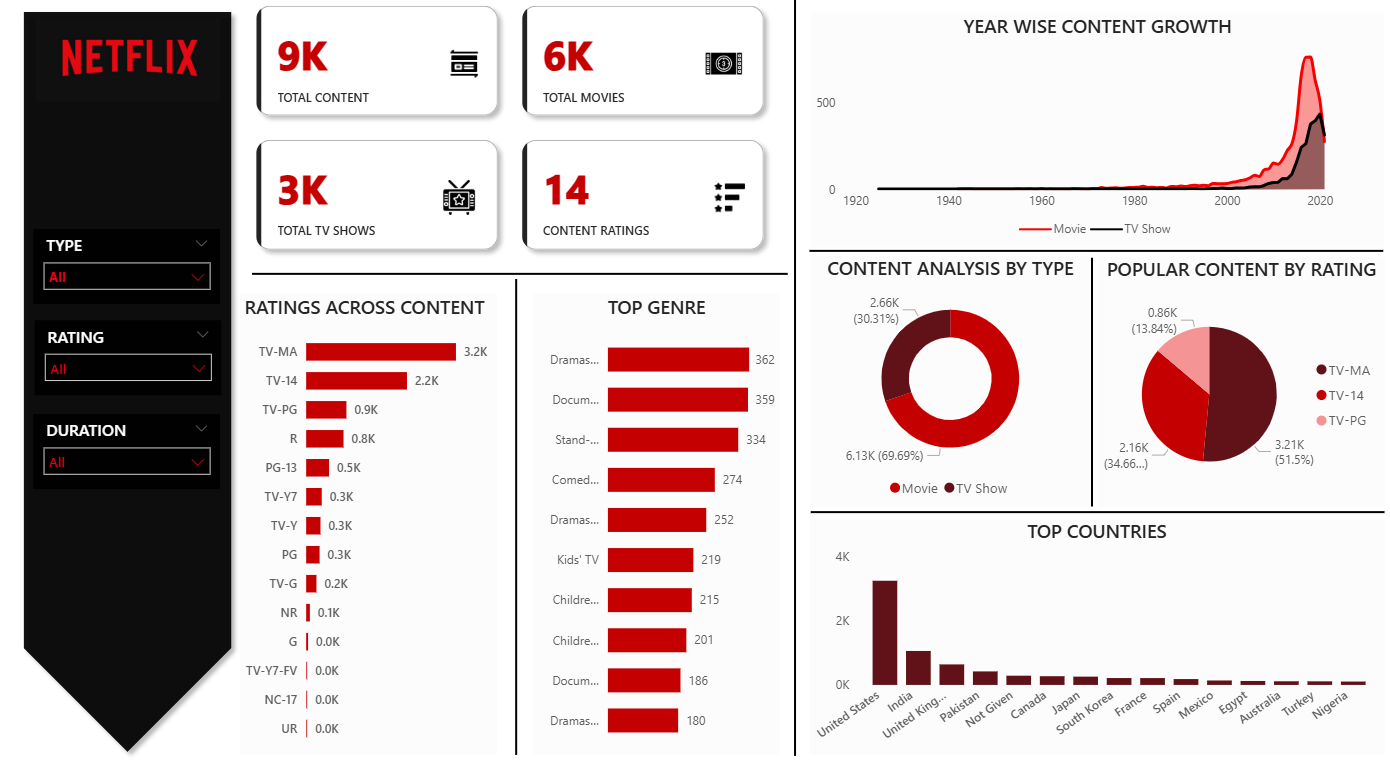

Layout of this report page (visuals, bound fields, positions):
{"tool":"powerbi","page":{"name":"Page 1","canvas":[1400,800],"ordinal":0},"visuals":[{"type":"donutChart","title":"CONTENT ANALYSIS BY TYPE","fields":{"Y":["CountNonNull(netflix_cleaned_dataset.show_id)"],"Category":["netflix_cleaned_dataset.type"]},"box":[815.4,286.9,280,252.3],"z":0},{"type":"barChart","title":"RATINGS ACROSS CONTENT","fields":{"Category":["netflix_cleaned_dataset.rating"],"Y":["CountNonNull(netflix_cleaned_dataset.show_id)"]},"box":[242.9,325.7,258.6,461.4],"z":1000},{"type":"clusteredBarChart","title":"TOP GENRE","fields":{"Category":["netflix_cleaned_dataset.listed_in"],"Y":["CountNonNull(netflix_cleaned_dataset.show_id)"]},"box":[537.1,325.7,247.1,461.4],"z":2000},{"type":"areaChart","title":"YEAR WISE CONTENT GROWTH","fields":{"Category":["netflix_cleaned_dataset.release_year"],"Y":["CountNonNull(netflix_cleaned_dataset.show_id)"],"Series":["netflix_cleaned_dataset.type"]},"box":[815.2,43.5,574.7,235.1],"z":3000},{"type":"columnChart","title":"TOP COUNTRIES","fields":{"Category":["netflix_cleaned_dataset.country"],"Y":["Count(netflix_cleaned_dataset.title)"]},"box":[813.8,550,576.2,237.7],"z":4000},{"type":"cardVisual","fields":{"Data":["netflix_cleaned_dataset.Total_Titles","netflix_cleaned_dataset.Total_Movies","netflix_cleaned_dataset.Total_TV_Shows","Count(netflix_cleaned_dataset.rating)"]},"box":[243.2,20.4,542.1,278.5],"z":5000},{"type":"shape","box":[255.4,298.9,536.7,12.2],"z":6000},{"type":"shape","box":[514.9,311.1,10.9,476.9],"z":7000},{"type":"shape","box":[792.1,27.2,13.6,760.9],"z":8000},{"type":"shape","box":[18.1,33.3,226.4,759.7],"z":10001},{"type":"image","box":[33.3,43.1,194.4,95.8],"z":10002},{"type":"slicer","fields":{"Values":["netflix_cleaned_dataset.type"]},"box":[36.1,261.1,187.5,75],"z":10003},{"type":"slicer","fields":{"Values":["netflix_cleaned_dataset.rating"]},"box":[37.5,351.4,187.5,75],"z":10004},{"type":"slicer","fields":{"Values":["netflix_cleaned_dataset.duration"]},"box":[36.1,445.8,187.5,75],"z":10005},{"type":"pieChart","title":"POPULAR CONTENT BY RATING","fields":{"Category":["netflix_cleaned_dataset.rating","netflix_cleaned_dataset.release_year"],"Y":["CountNonNull(netflix_cleaned_dataset.title)"]},"box":[1103.1,287.7,286.9,251.5],"z":10006}]}

Visuals, with their boxes in screenshot pixels (x1, y1, x2, y2):
"CONTENT ANALYSIS BY TYPE" donutChart: 807,254,1090,509
"RATINGS ACROSS CONTENT" barChart: 228,293,489,760
"TOP GENRE" clusteredBarChart: 525,293,776,760
"YEAR WISE CONTENT GROWTH" areaChart: 807,8,1388,246
"TOP COUNTRIES" columnChart: 805,520,1389,761
cardVisual - netflix_cleaned_dataset.Total_Titles x netflix_cleaned_dataset.Total_Movies: 228,0,777,266
shape: 240,266,784,279
shape: 503,279,514,761
shape: 784,0,797,761
shape: 0,0,229,761
image: 16,7,212,104
slicer - netflix_cleaned_dataset.type: 18,228,208,304
slicer - netflix_cleaned_dataset.rating: 20,319,210,395
slicer - netflix_cleaned_dataset.duration: 18,415,208,491
"POPULAR CONTENT BY RATING" pieChart: 1098,255,1389,509
